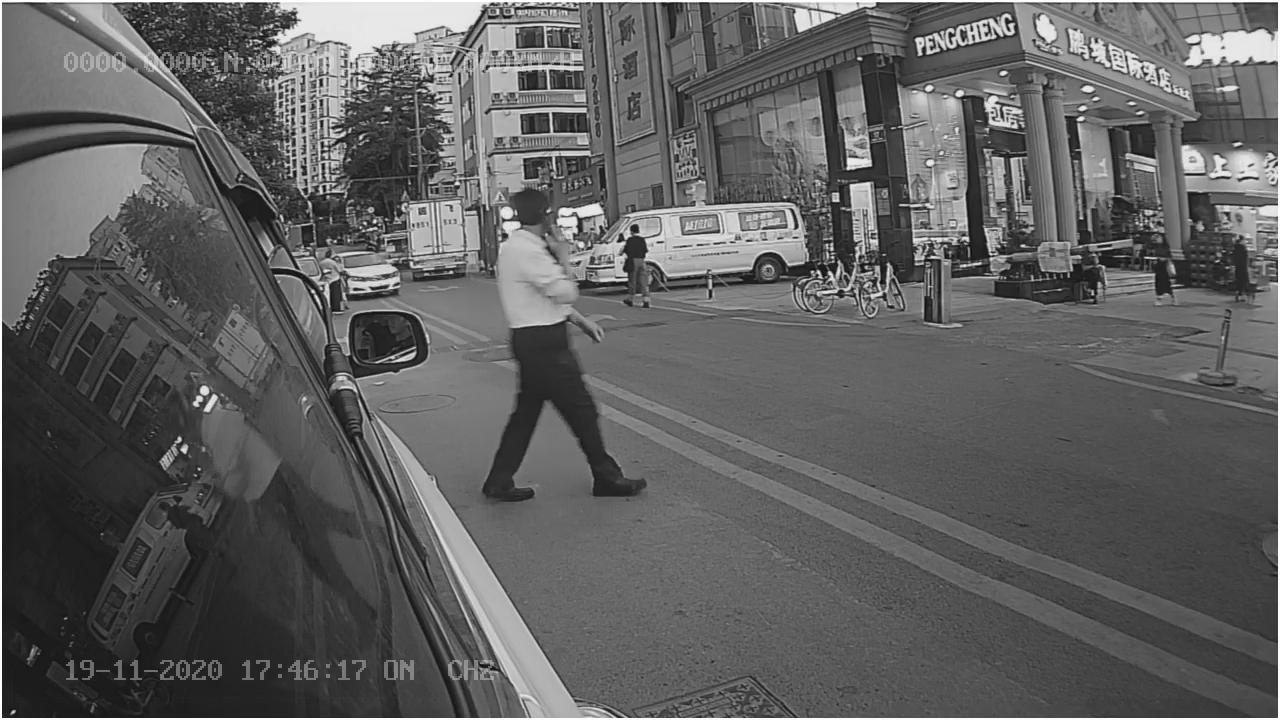person: (475, 189, 646, 517)
